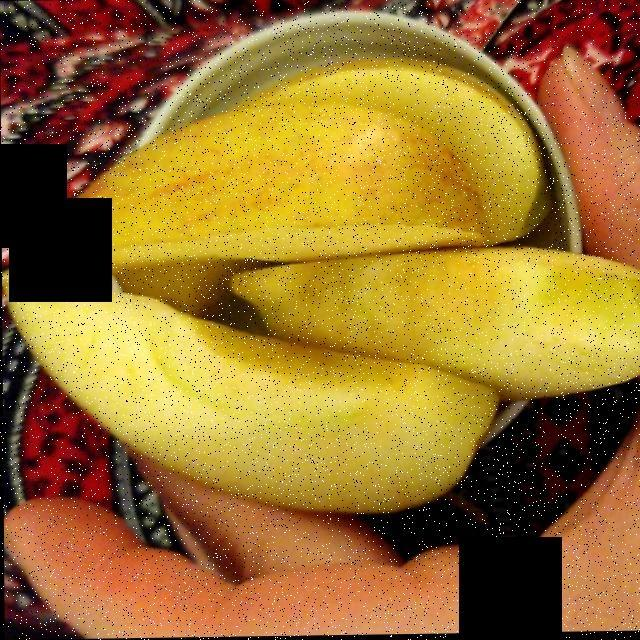apple: (6, 60, 640, 516)
